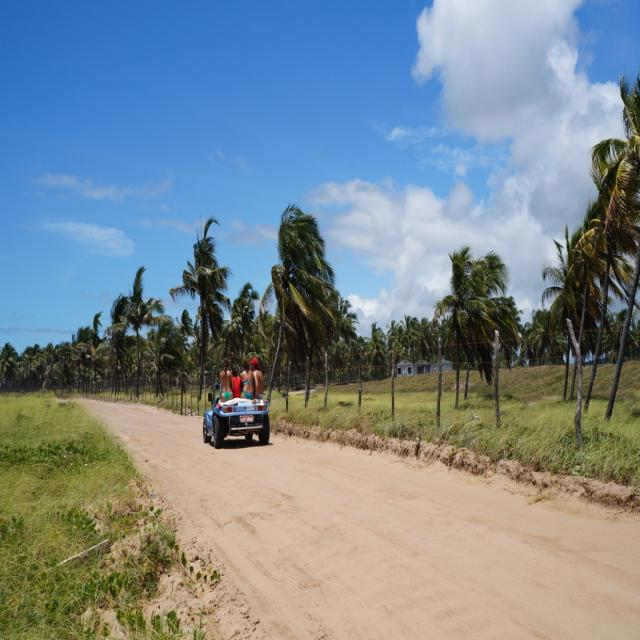car: (205, 374, 265, 442)
